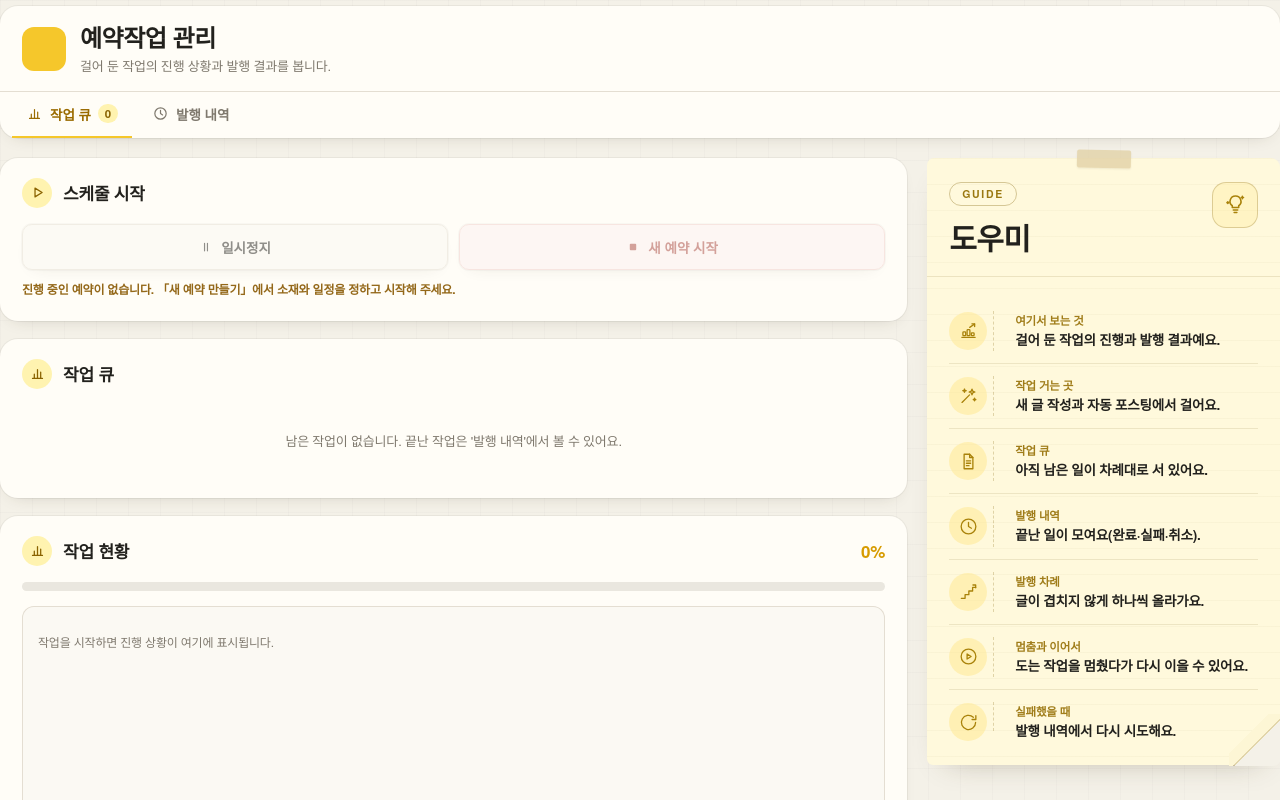
Test case: 예약 포스팅 화면 › 발행 내역은 끝난 작업(완료·실패)을 보여 준다
Step 1. Click the tab "발행 내역" → (191, 115), box [138, 92, 243, 138]
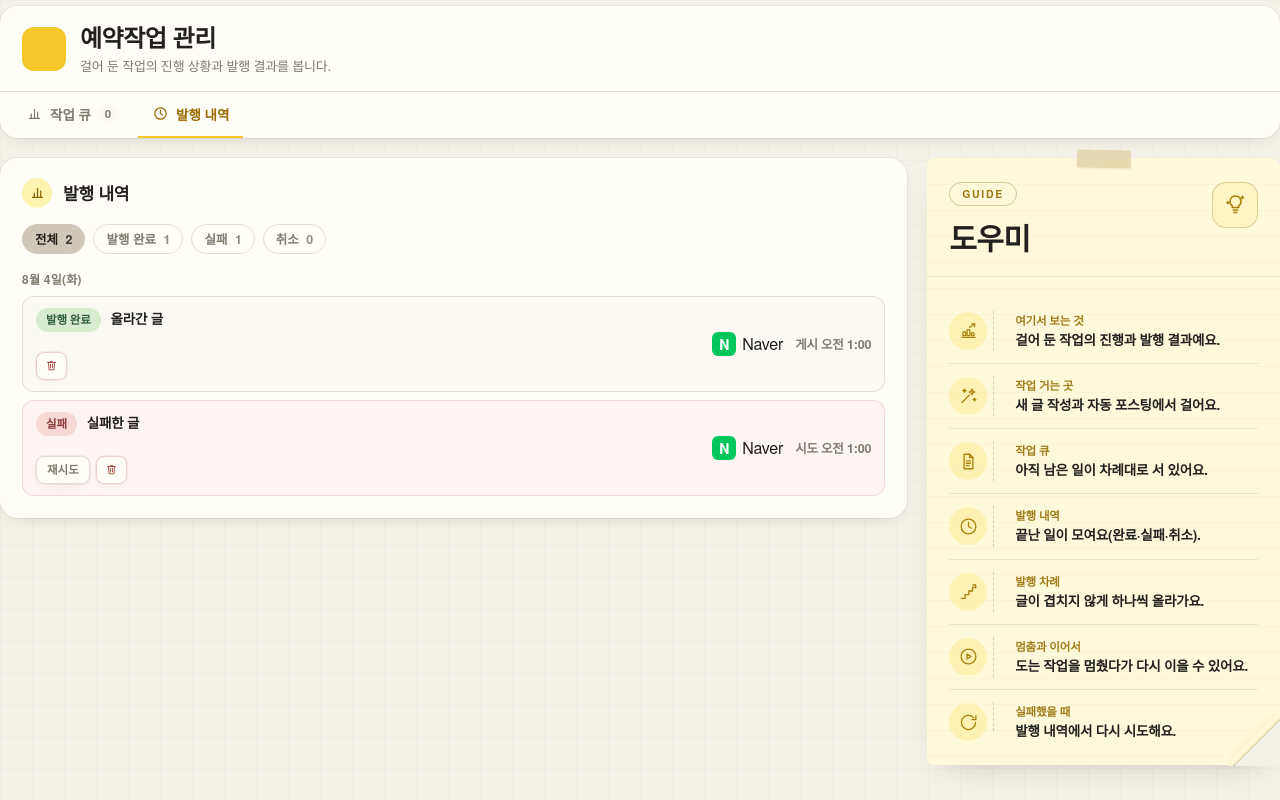
Result: the element that starts with "발행 내역" shows "올라간 글" at [111, 309, 163, 328]
Result: the element that starts with "발행 내역" shows "실패한 글" at [87, 413, 139, 432]
